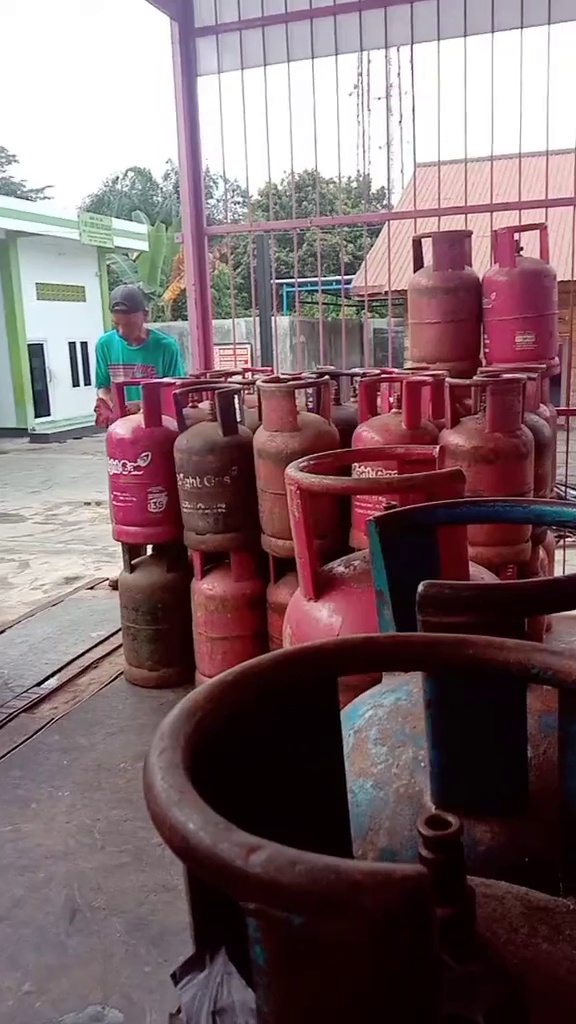blue_gas: (342, 498, 576, 864)
bright_gas: (283, 445, 480, 696), (442, 376, 536, 561), (348, 374, 439, 563), (256, 380, 346, 560), (168, 386, 256, 554), (105, 377, 190, 548), (483, 221, 561, 373), (118, 539, 195, 688), (408, 229, 481, 374), (192, 554, 267, 682)
